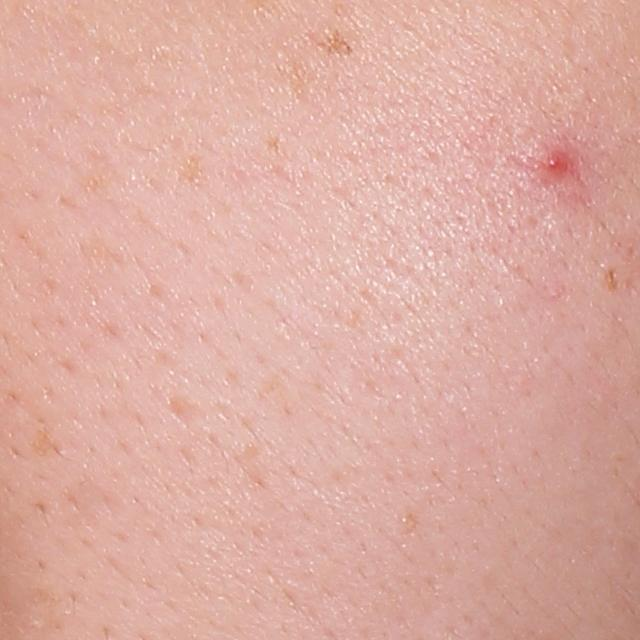atrophic_scar: (164, 393, 198, 431)
melasma: (316, 27, 356, 59)
papule: (535, 142, 576, 183)
